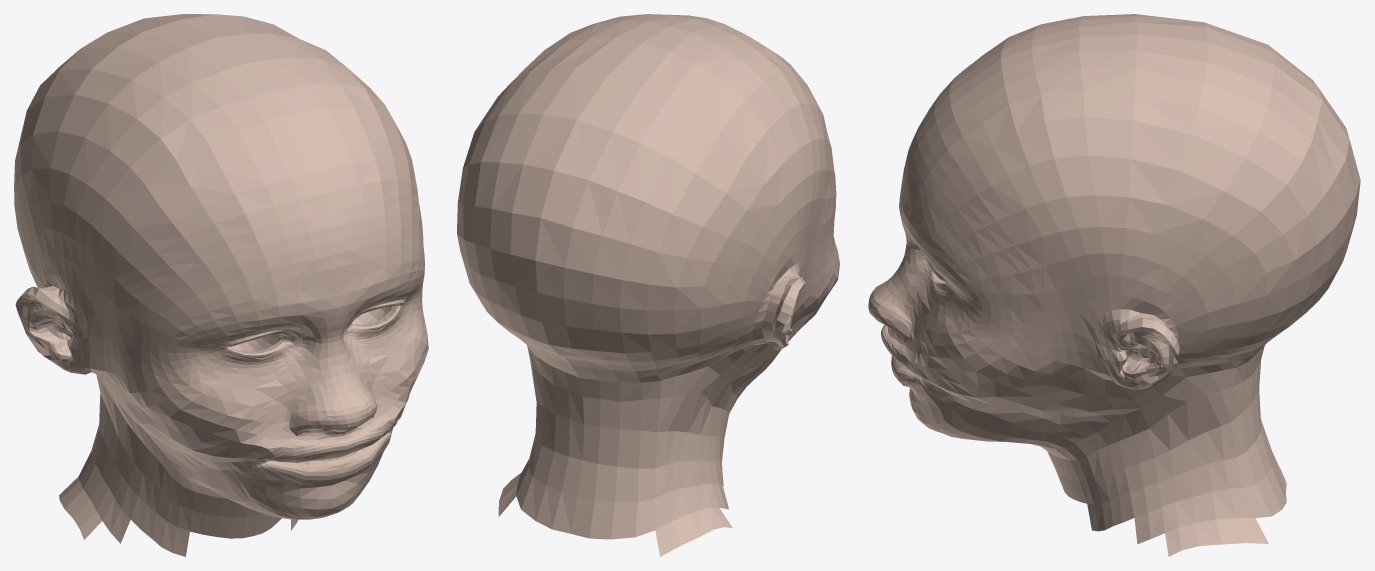
File: karma_face_MH_neutral_Z.glb
3 views of the same model, side by side, from view 1: azimuth 30°, elevation 25°; view 2: azimuth 150°, elevation 25°; view 3: azimuth 270°, elevation 25° (orthographic). The views are drawn at different scales.
Parts seen in each view (by area): view 1: head; view 2: head; view 3: head.
Part boxes in pixels (x1,y1,x2,y2): head: (14,14,428,556); head: (457,14,839,556); head: (868,14,1360,556).
Bounding box in the file's own units: 3.03 × 3.91 × 3.7.
